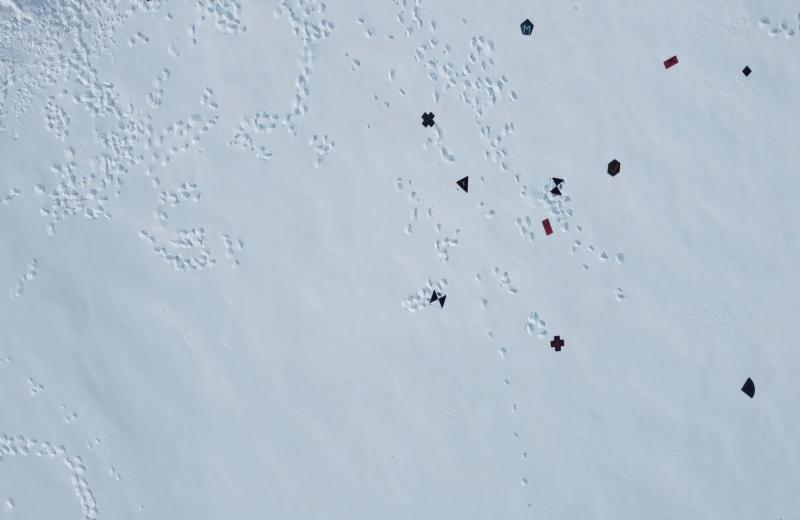Cross: (420, 111, 437, 129), (550, 335, 566, 353)
Hexagon: (606, 160, 622, 178)
Pentagon: (518, 16, 536, 37)
Quarter Circle: (740, 376, 756, 399)
Rectangle: (662, 55, 678, 70), (542, 218, 555, 236)
Square: (740, 64, 754, 79)
Triangle: (456, 175, 472, 195)
